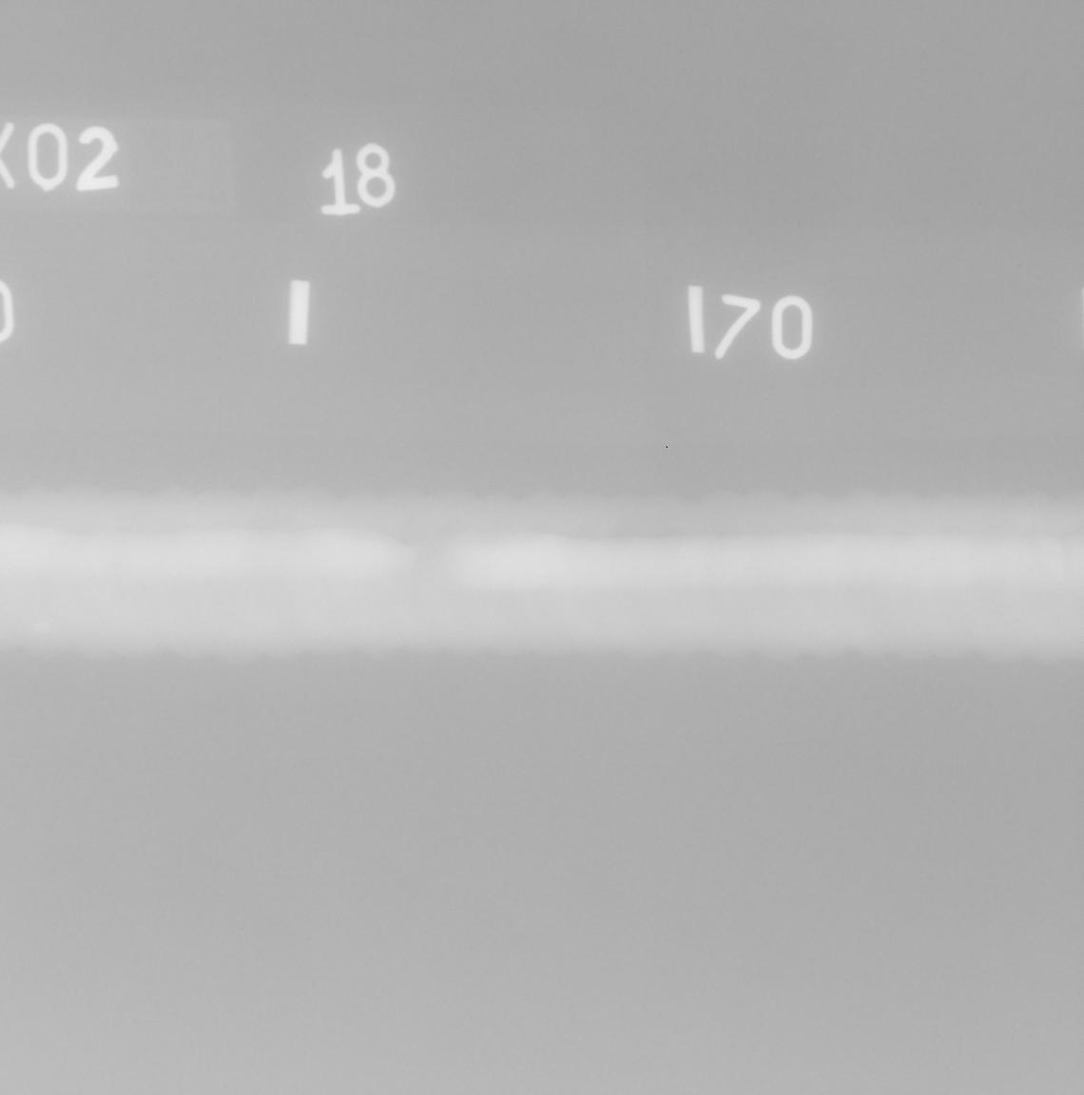Pore/Porosity: (929, 557, 935, 563), (113, 562, 120, 567), (371, 561, 375, 565)
